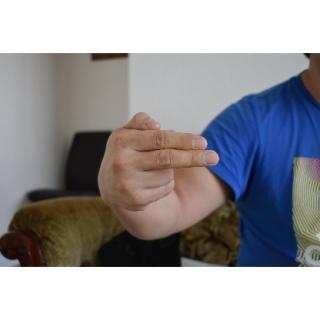AYN: (93, 106, 227, 213)
